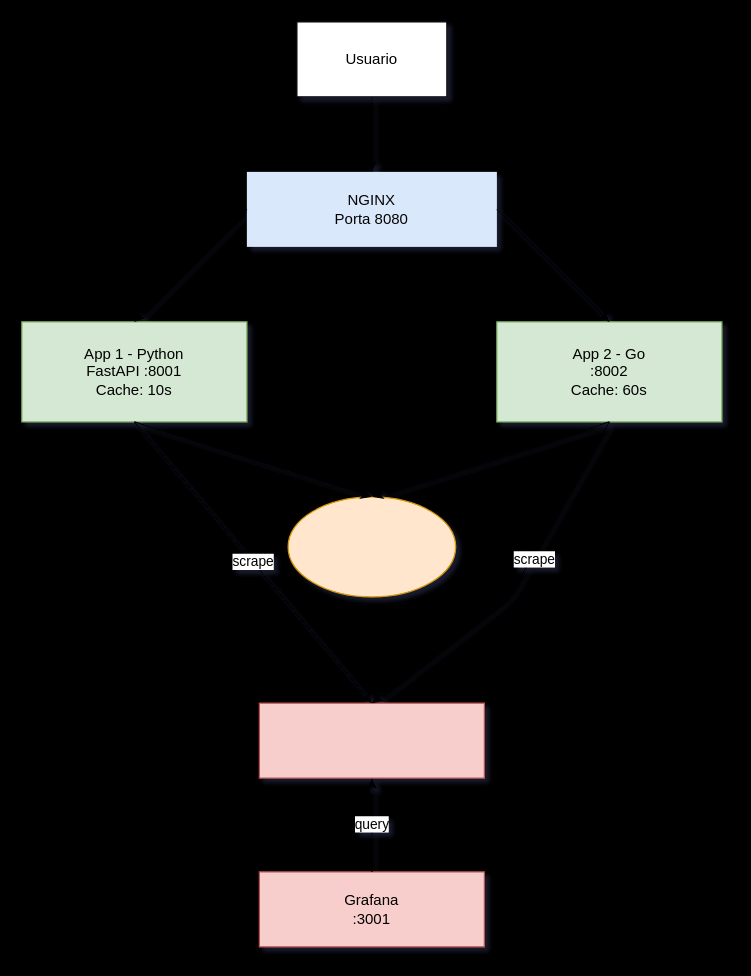
Some shapes in this 751 by 976 pixel diagram are drawn without their labels. Here are the shapes that lost their labels. From the top down, the box of each, then its label:
(287, 496, 456, 597): Redis Cache :6379
(258, 702, 484, 778): Prometheus :9090
